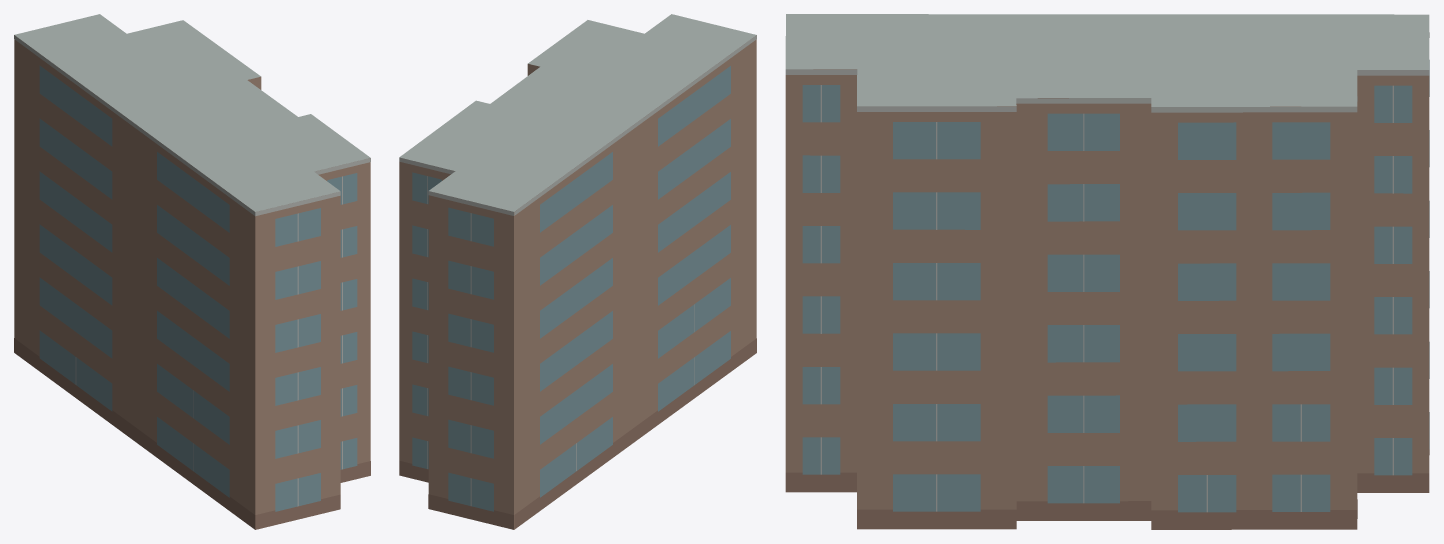
The model's file is survey-upis-32638211.glb.
3 views of the same model, side by side, from view 1: azimuth 30°, elevation 25°; view 2: azimuth 150°, elevation 25°; view 3: azimuth 270°, elevation 25° (orthographic). The views are drawn at different scales.
Parts seen in each view (by area): view 1: survey-upis-32638211.tmp; view 2: survey-upis-32638211.tmp; view 3: survey-upis-32638211.tmp.
Part boxes in pixels (bbox=[...]): survey-upis-32638211.tmp: bbox=[14, 14, 370, 529]; survey-upis-32638211.tmp: bbox=[399, 14, 756, 529]; survey-upis-32638211.tmp: bbox=[785, 14, 1429, 529].
Bounding box in the file's own units: 8.64 × 18.3 × 25.27.
